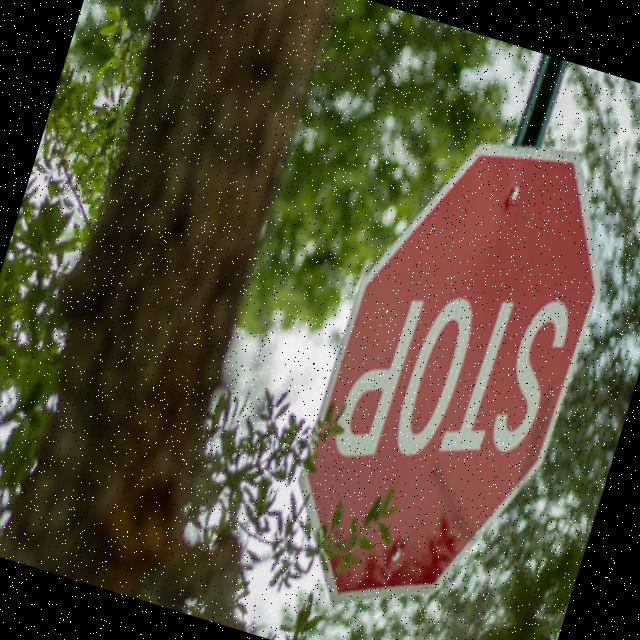stop: (258, 91, 640, 640)
